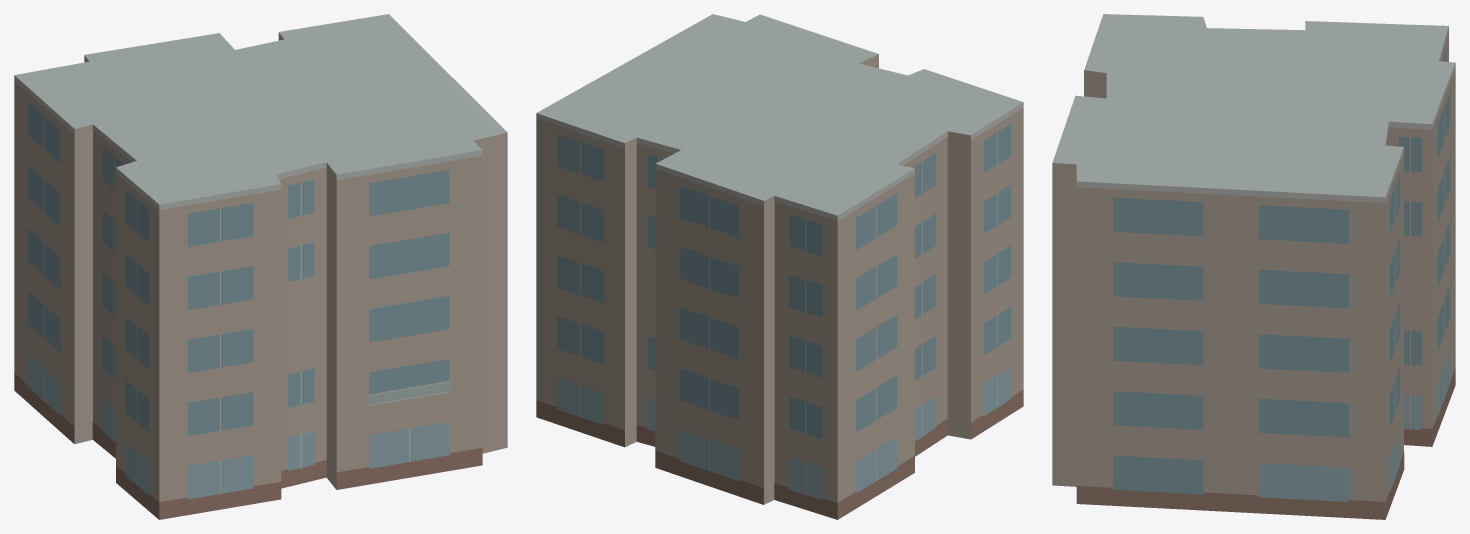
The model's file is survey-upis-32839531.glb.
3 views of the same model, side by side, from view 1: azimuth 30°, elevation 25°; view 2: azimuth 150°, elevation 25°; view 3: azimuth 270°, elevation 25° (orthographic). The views are drawn at different scales.
Parts seen in each view (by area): view 1: survey-upis-32839531.tmp; view 2: survey-upis-32839531.tmp; view 3: survey-upis-32839531.tmp.
Part boxes in pixels (<box>): survey-upis-32839531.tmp: <box>14,14,507,519</box>; survey-upis-32839531.tmp: <box>536,14,1023,519</box>; survey-upis-32839531.tmp: <box>1052,14,1455,519</box>.
Bounding box in the file's own units: 16.84 × 13.8 × 15.65.
